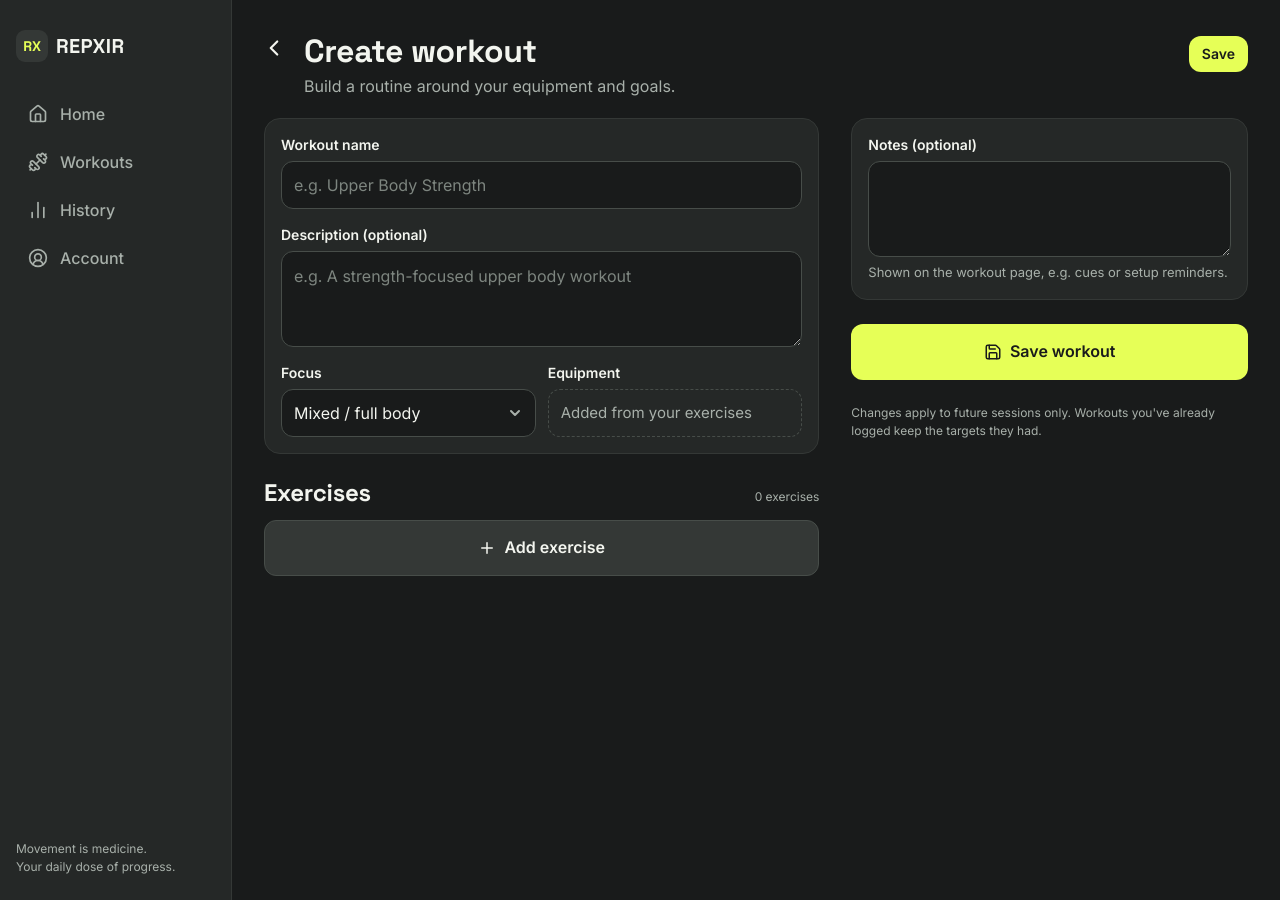
Test case: routing › validates the builder without discarding fields
The image size is (1280, 900).
Step 1. Type "Keep me" into the text box labelled "Description (optional)" → (542, 299), box [281,251,802,347]
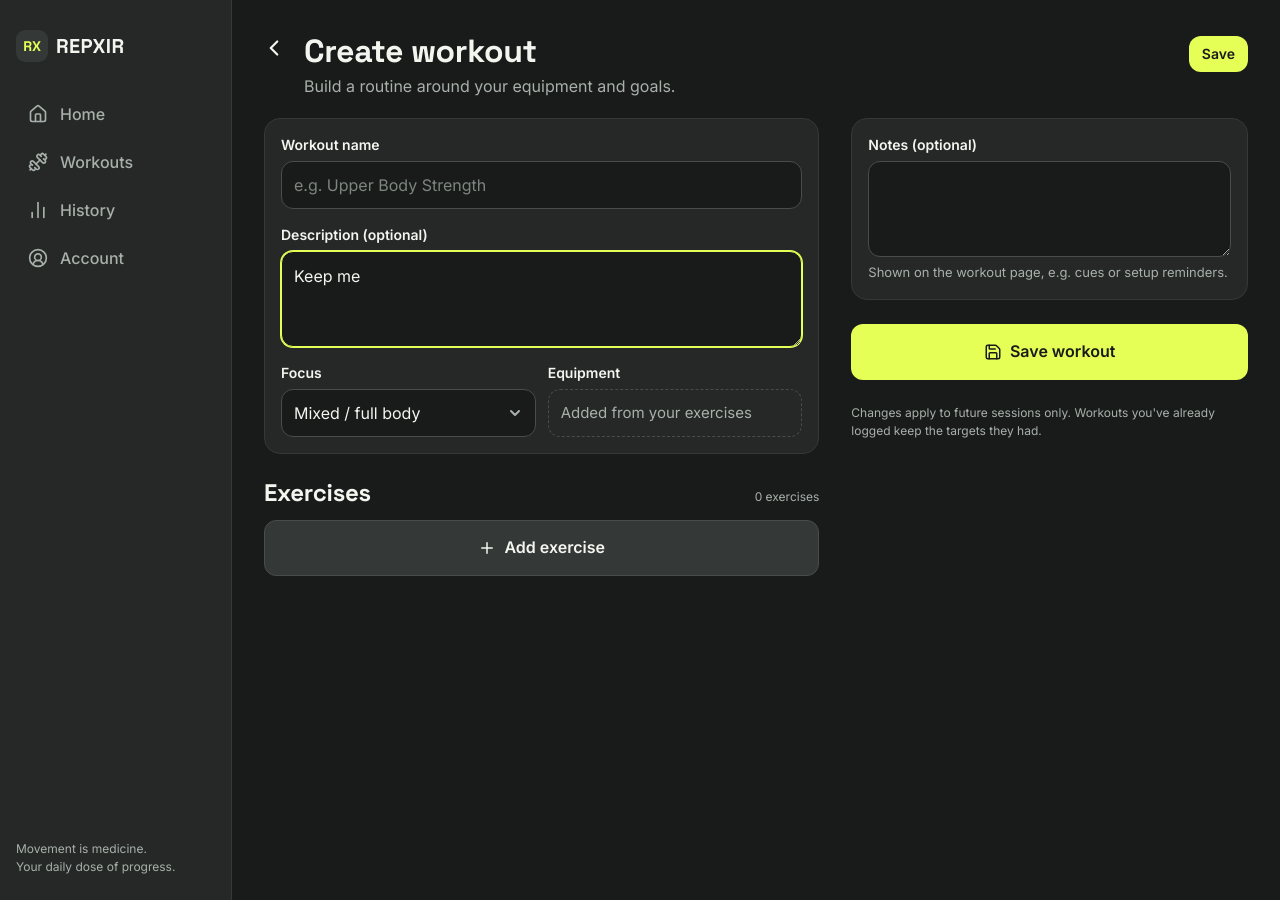
Step 2. Click the button "Save workout" → (1050, 352), box [851,324,1248,380]
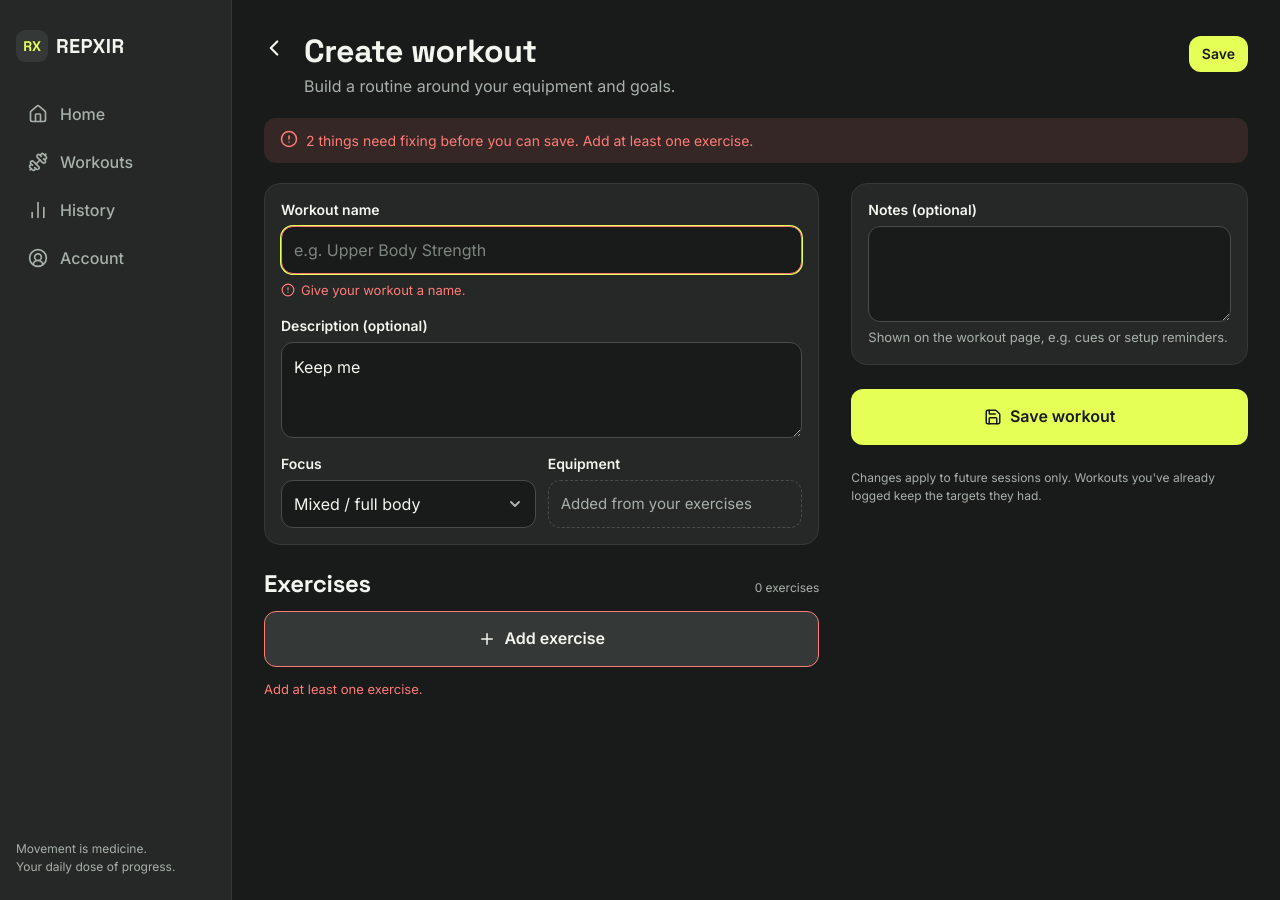
Result: the text "Give your workout a name." is shown at [281,282,465,298]
Result: the text "Add at least one exercise" is shown at [579,132,753,149]
